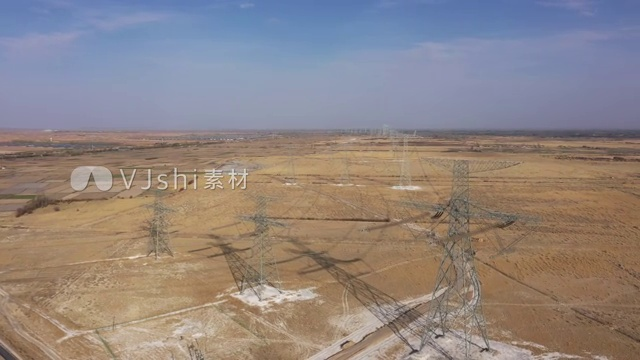tower_body: (410, 148, 541, 360), (233, 189, 295, 303)
tower_foot: (426, 296, 491, 357), (238, 268, 285, 300)
tower_head: (420, 153, 529, 174), (242, 192, 287, 207)
